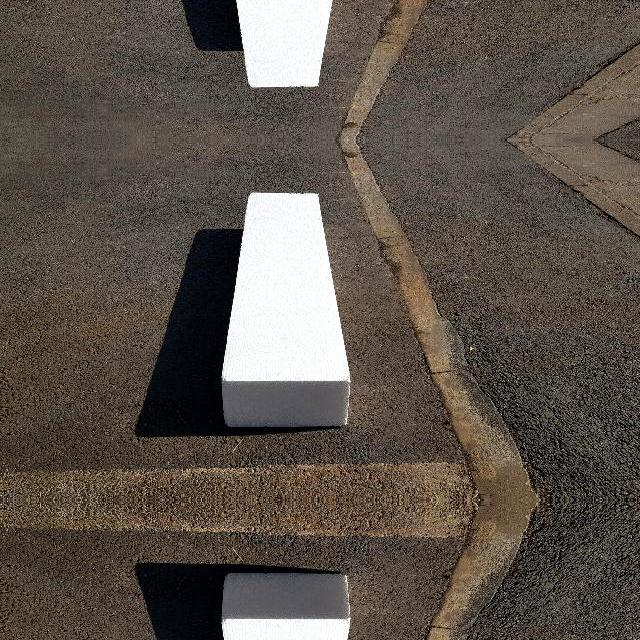Styrofoam: (222, 192, 352, 428), (222, 192, 350, 427), (222, 0, 351, 88), (222, 571, 351, 640), (222, 573, 350, 640), (236, 0, 333, 88)
